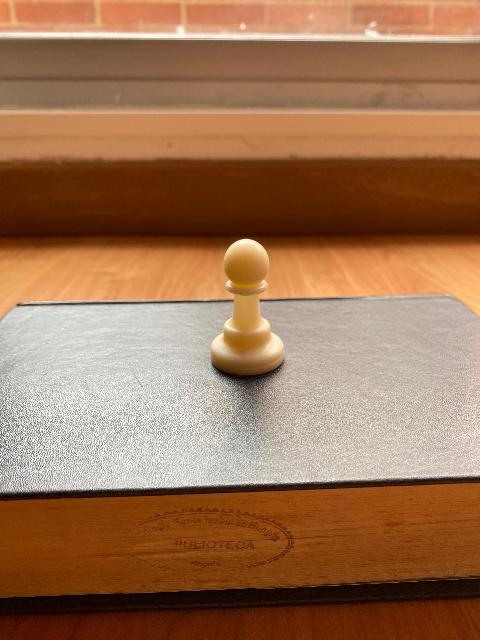white-pawn: (209, 238, 284, 376)
